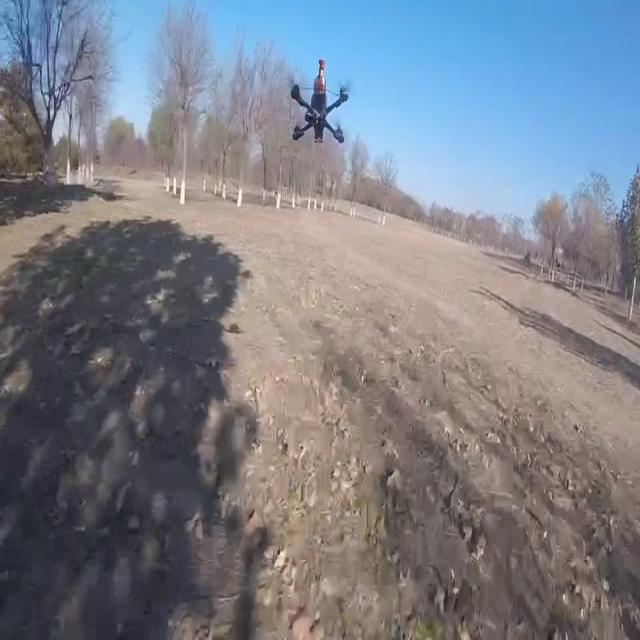drone: (282, 49, 358, 159)
